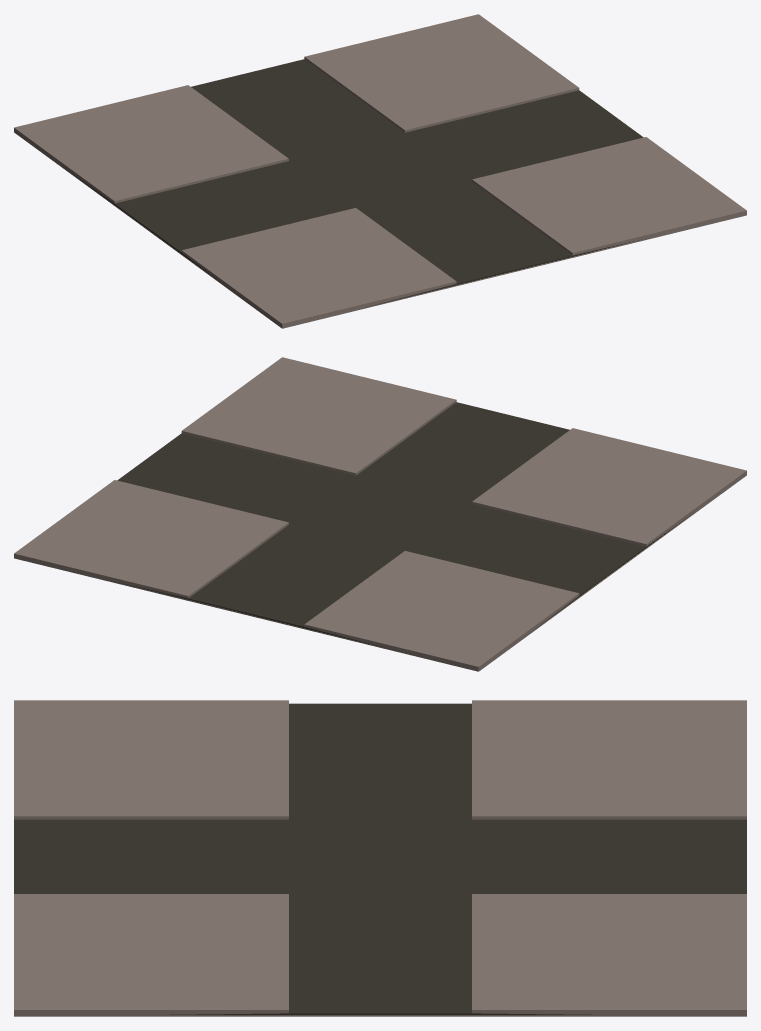
Rendered from Env_Street_Cross_col.fbx.
The picture shows the model from 3 angles, top to bottom: view 1: azimuth 30°, elevation 25°; view 2: azimuth 150°, elevation 25°; view 3: azimuth 270°, elevation 25°; orthographic projection. The views are drawn at different scales.
Visible parts, largest first — view 1: Env_Street_Cross_col; view 2: Env_Street_Cross_col; view 3: Env_Street_Cross_col.
Part boxes in pixels (box(x1,y1,x2,y2)): Env_Street_Cross_col: box(14, 14, 746, 328); Env_Street_Cross_col: box(14, 357, 746, 671); Env_Street_Cross_col: box(14, 700, 746, 1016).
Size of the model in its own units: 2000 by 20 by 2000.
